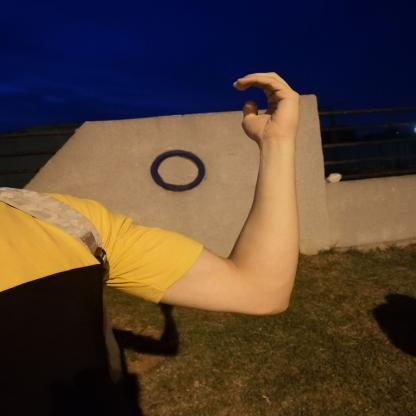JEEM: (218, 62, 312, 150)
